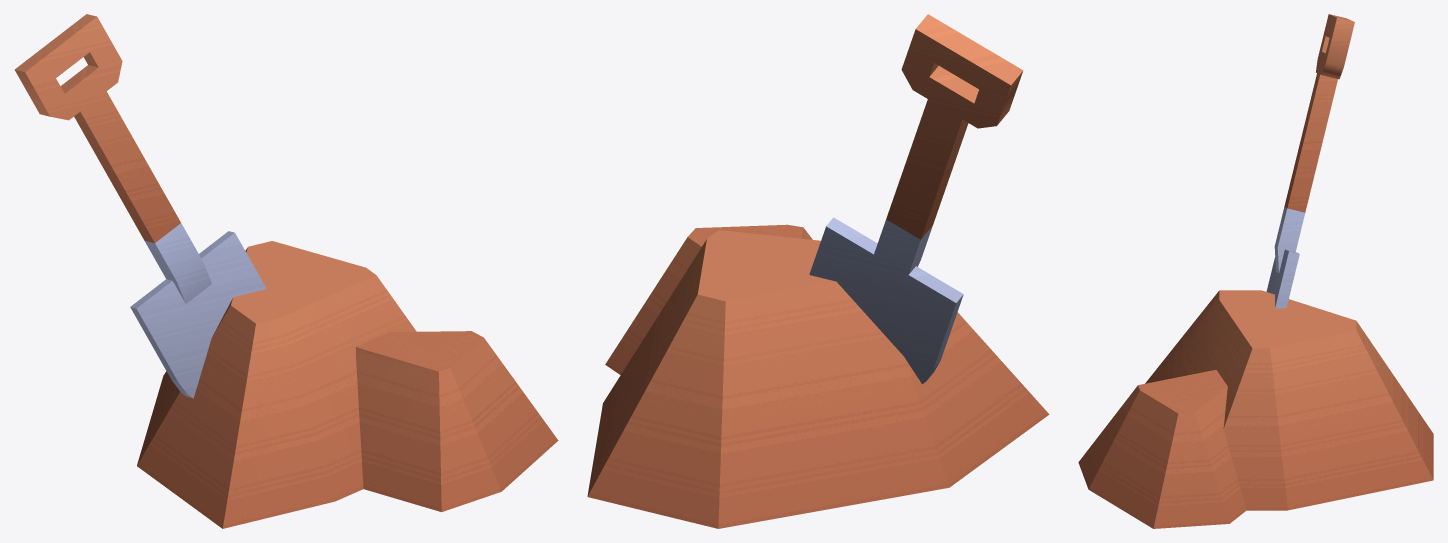
The model's file is shovel-dirt.glb.
3 views of the same model, side by side, from view 1: azimuth 30°, elevation 25°; view 2: azimuth 150°, elevation 25°; view 3: azimuth 270°, elevation 25° (orthographic). The views are drawn at different scales.
Parts seen in each view (by area): view 1: shovel-dirt; view 2: shovel-dirt; view 3: shovel-dirt.
Boxes of the visible parts, x1=… form: shovel-dirt: x1=14, y1=14, x2=558, y2=528; shovel-dirt: x1=587, y1=14, x2=1049, y2=528; shovel-dirt: x1=1078, y1=14, x2=1433, y2=528.
Size of the model in its own units: 0.5994 by 0.5738 by 0.5057.
1 material, 1 textured.
